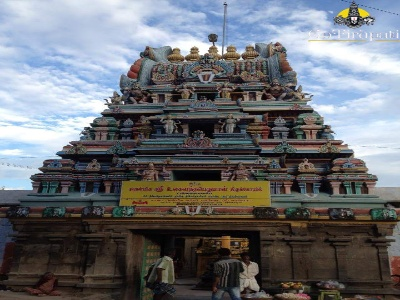gopura: (27, 30, 384, 203)
